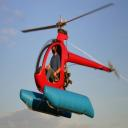helicopter: (22, 5, 121, 118)
